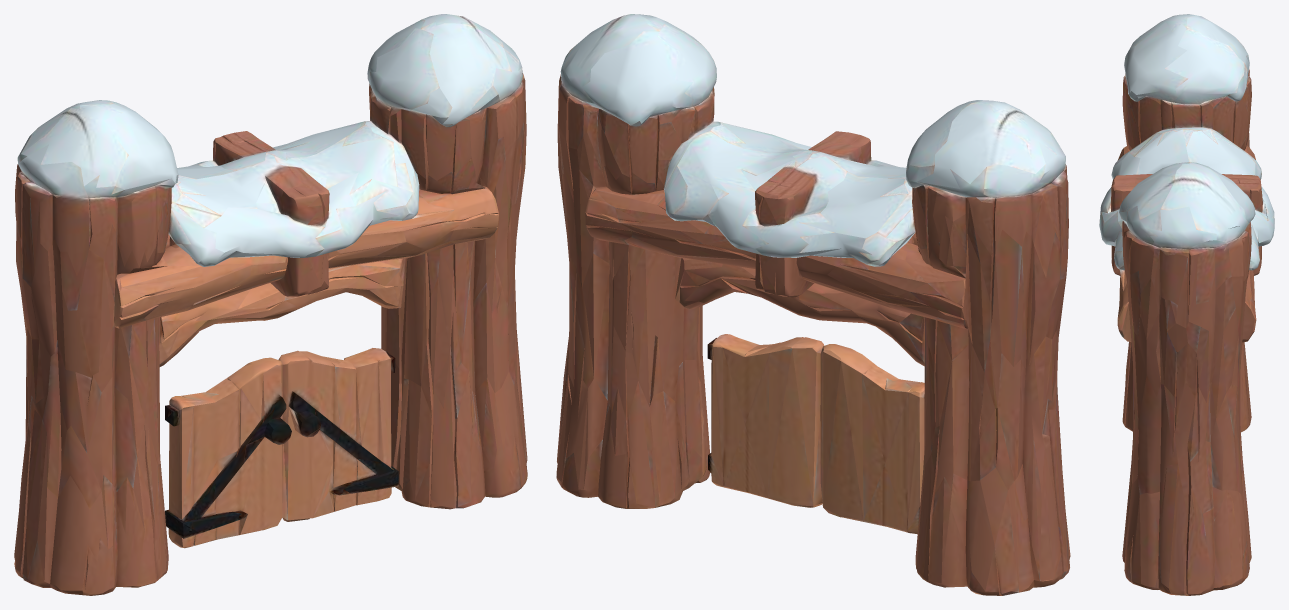
Rendered from gate.glb.
3 views of the same model, side by side, from view 1: azimuth 30°, elevation 25°; view 2: azimuth 150°, elevation 25°; view 3: azimuth 270°, elevation 25° (orthographic). The views are drawn at different scales.
Bounding box in the file's own units: 1.9 × 1.67 × 0.6653.
Materials: 1 (1 with a texture image).
